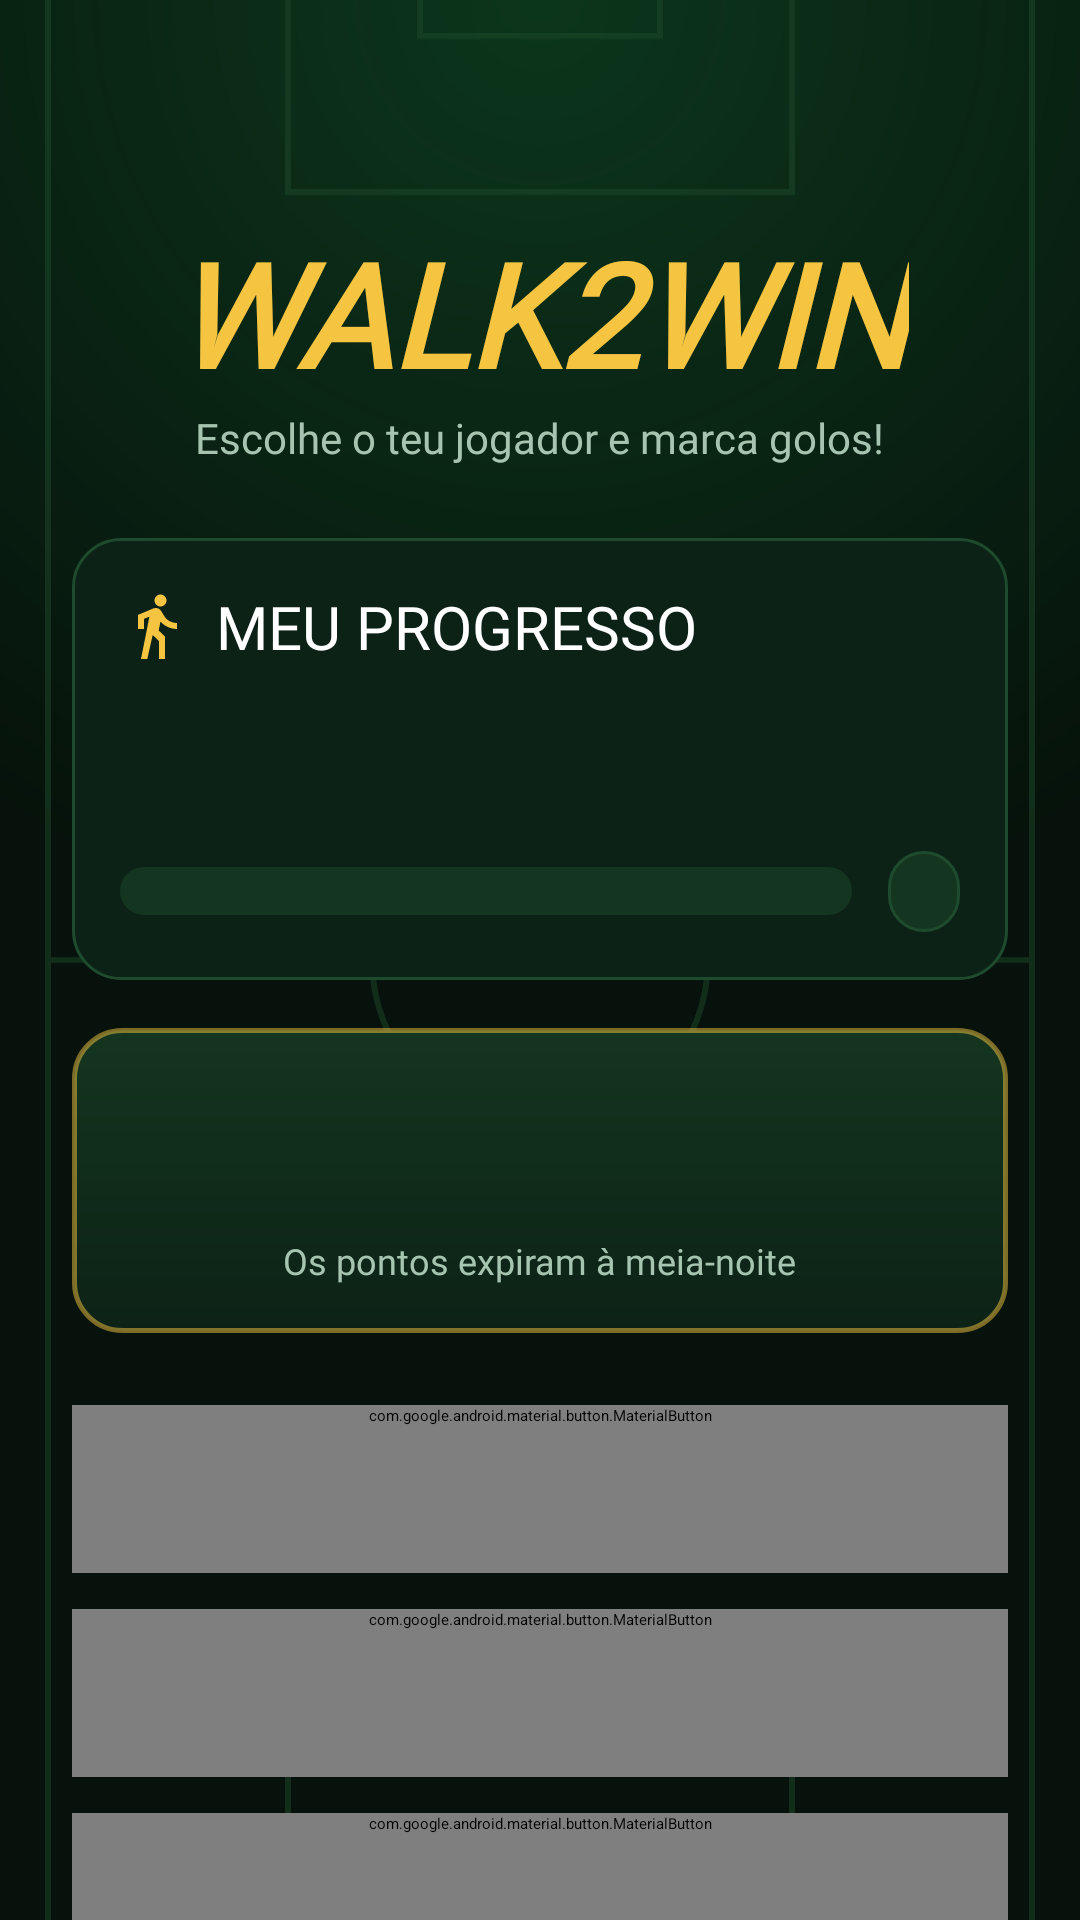

Screen size 1080×1920. Icon name, then its center in pixels as (x,y):
directions walk: (157,626)
